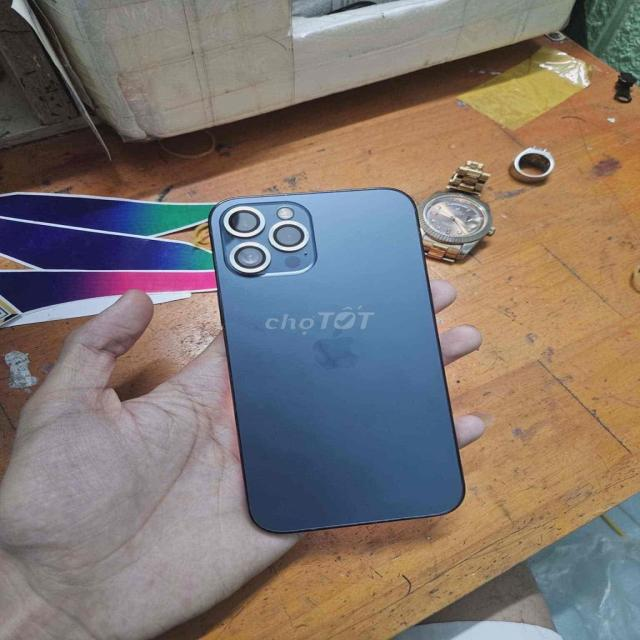gen_12_13: (200, 186, 468, 540)
